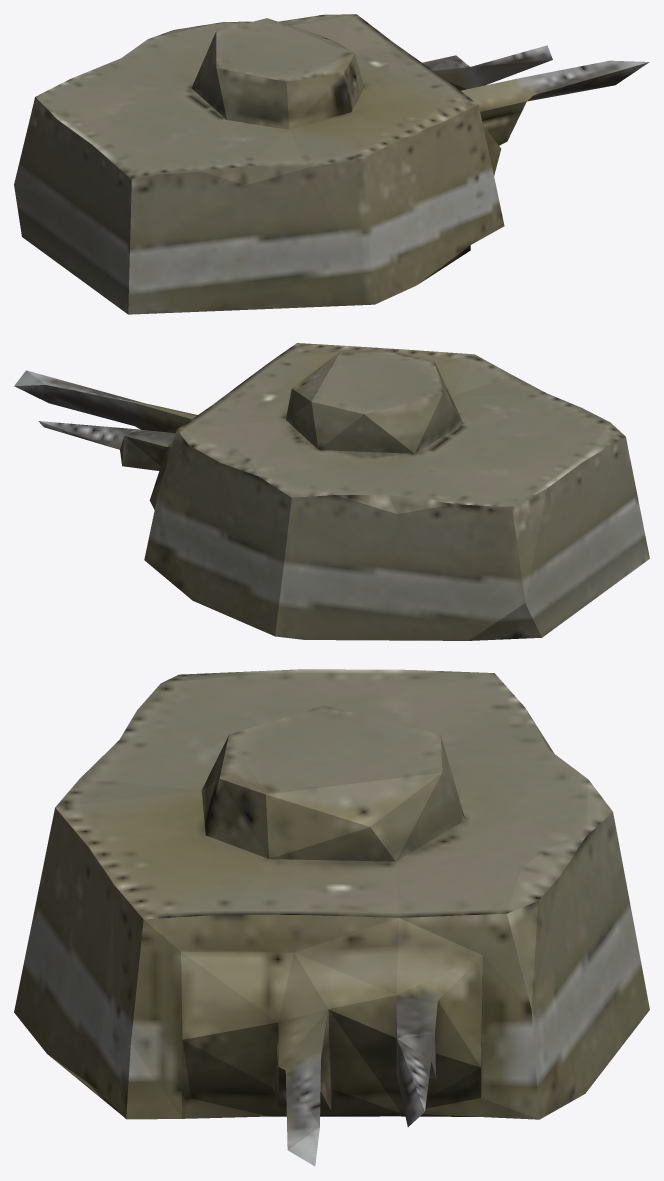
The model's file is turret.obj.
3 views of the same model, one above another, from view 1: azimuth 30°, elevation 25°; view 2: azimuth 150°, elevation 25°; view 3: azimuth 270°, elevation 25° (orthographic). The views are drawn at different scales.
Size of the model in its own units: 0.5144 by 0.155 by 0.3279.
Materials: 1 (1 with a texture image).
